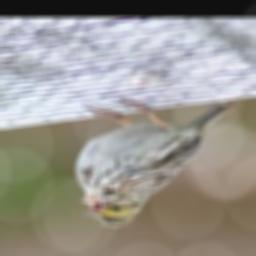Sparrow: (73, 95, 233, 233)
